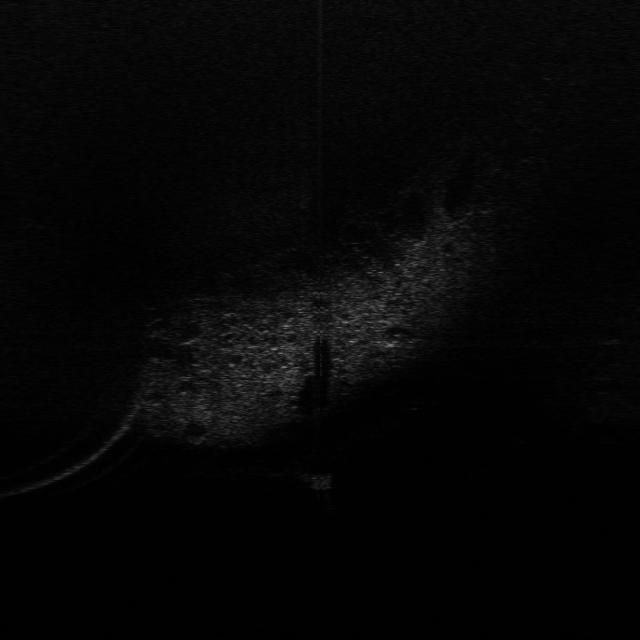cube: (294, 469, 334, 493)
